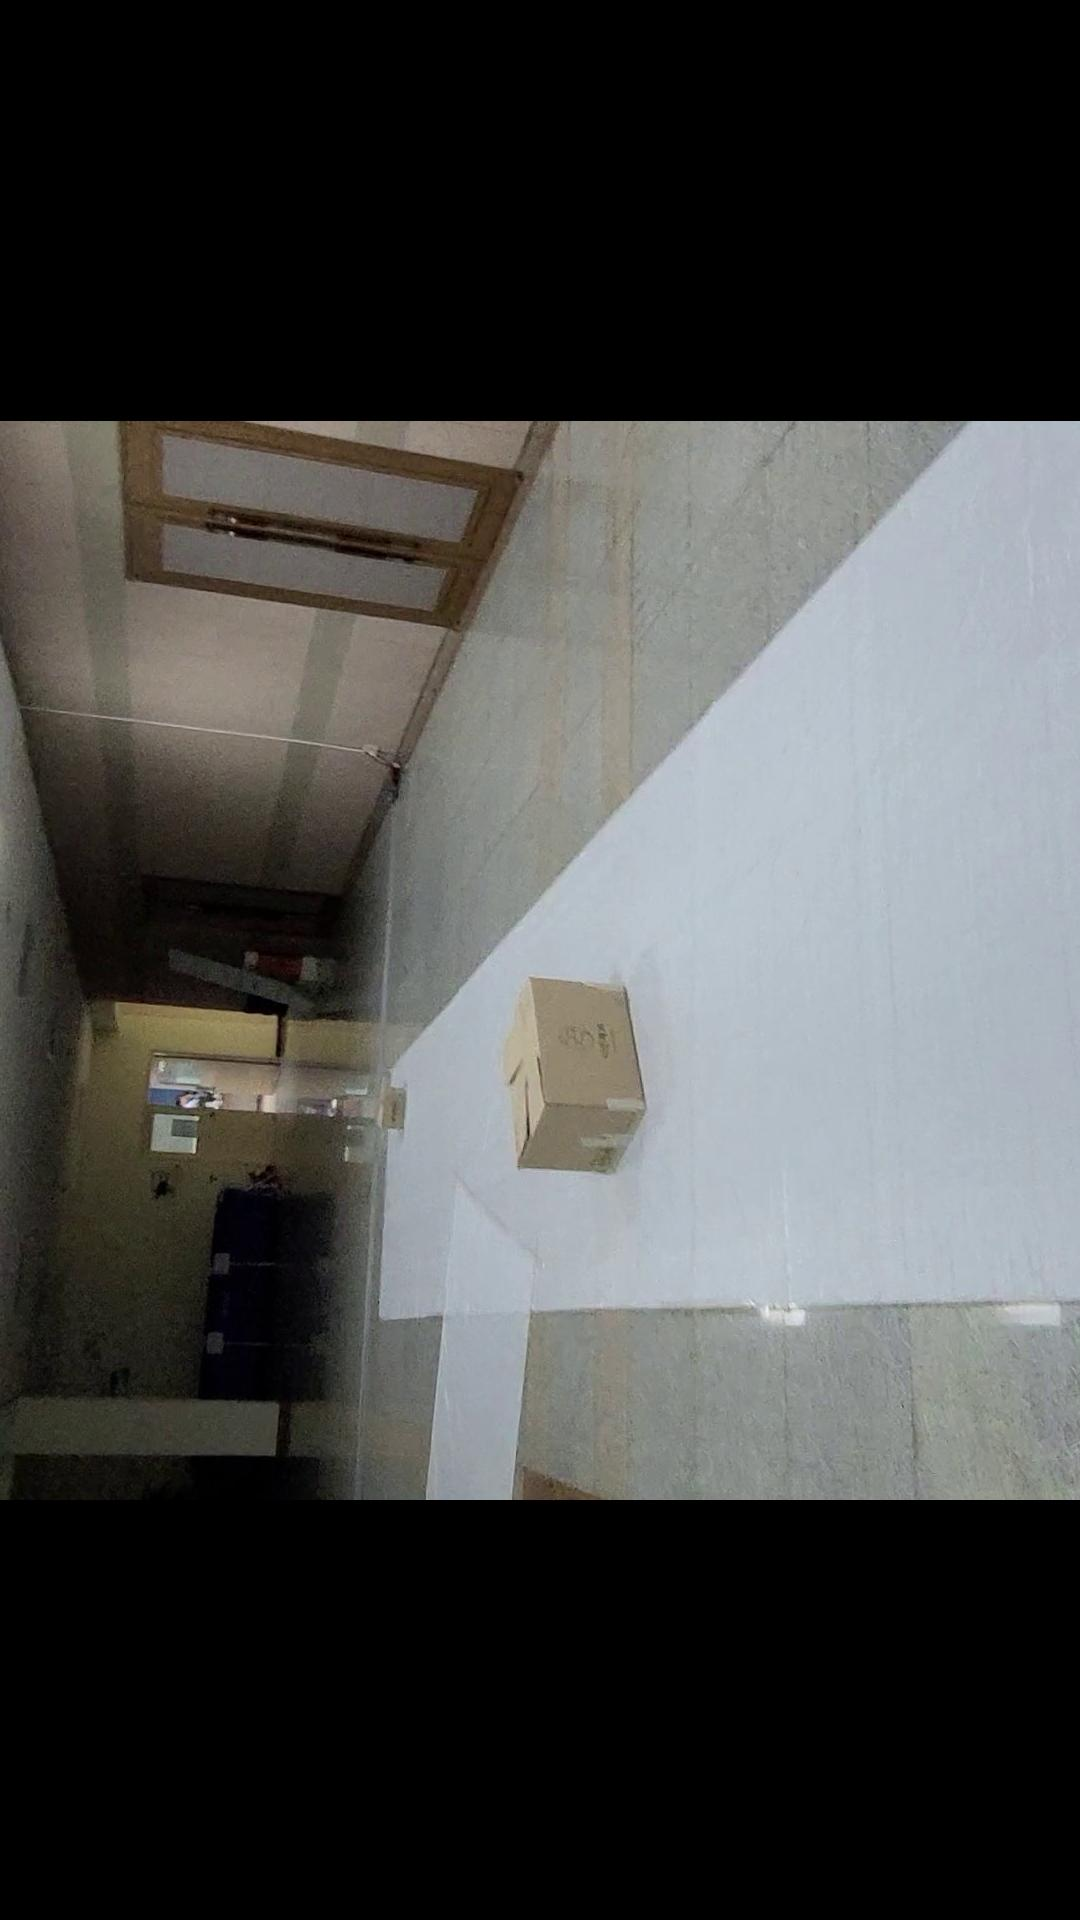Box: (500, 978, 645, 1172), (373, 1087, 405, 1129)
